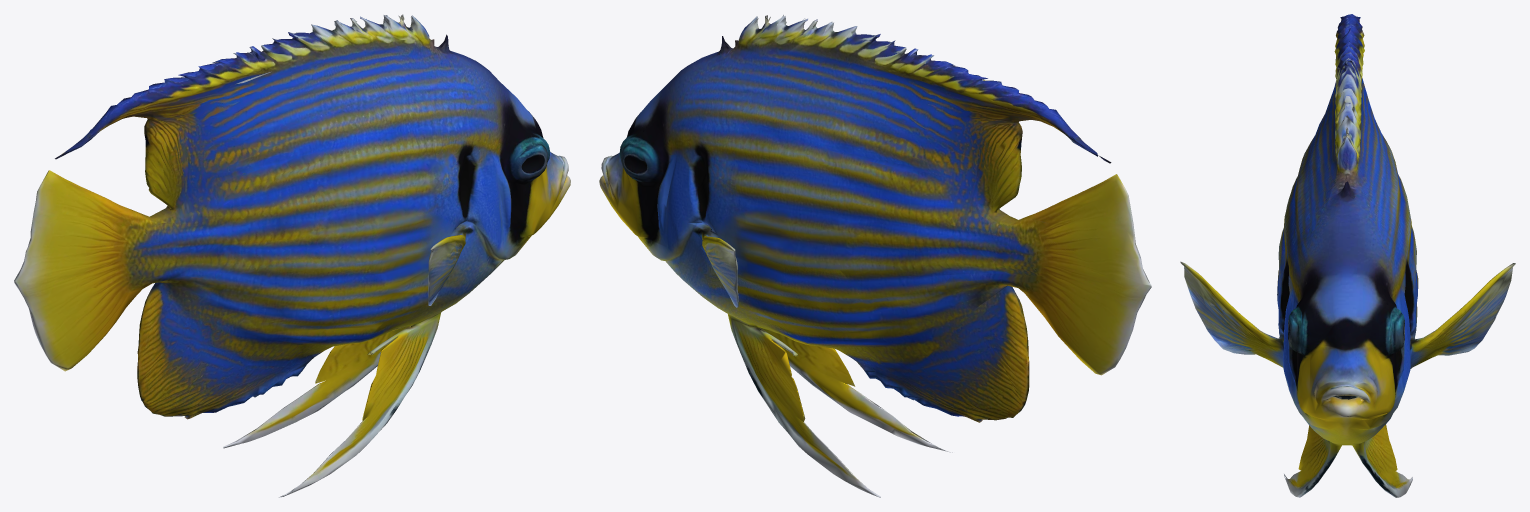
Rendered from angelfish.glb.
3 renders of one model, left to right at view 1: azimuth 30°, elevation 25°; view 2: azimuth 150°, elevation 25°; view 3: azimuth 270°, elevation 25°, orthographic.
Visible parts, largest first — view 1: tripo_node_8878e4d6-59f0-4cd4-a9fe-d025e9b53c59; view 2: tripo_node_8878e4d6-59f0-4cd4-a9fe-d025e9b53c59; view 3: tripo_node_8878e4d6-59f0-4cd4-a9fe-d025e9b53c59.
Boxes of the visible parts, bbox=[...] form: tripo_node_8878e4d6-59f0-4cd4-a9fe-d025e9b53c59: bbox=[14, 14, 570, 497]; tripo_node_8878e4d6-59f0-4cd4-a9fe-d025e9b53c59: bbox=[599, 15, 1151, 497]; tripo_node_8878e4d6-59f0-4cd4-a9fe-d025e9b53c59: bbox=[1180, 14, 1515, 497].
Size of the model in its own units: 1 by 0.75 by 0.5277.
1 material, 1 textured.
